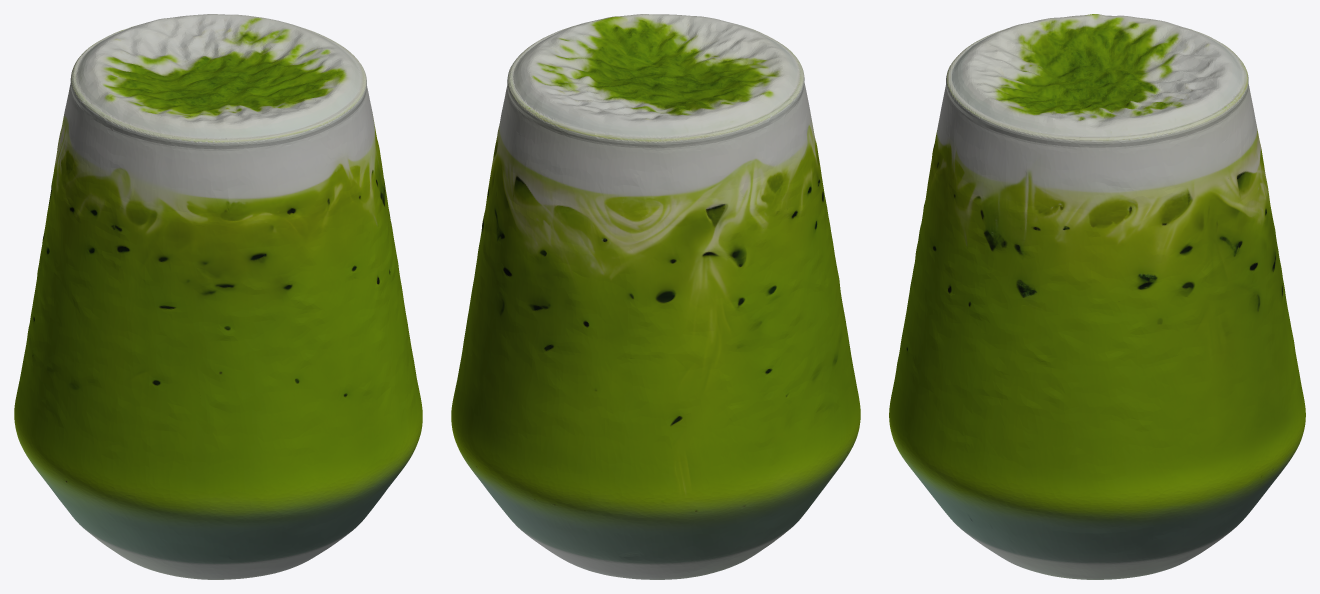
Rendered from matcha_layers.obj.
The picture shows the model from 3 angles, left to right: view 1: azimuth 30°, elevation 25°; view 2: azimuth 150°, elevation 25°; view 3: azimuth 270°, elevation 25°; orthographic projection.
Visible parts, largest first — view 1: matcha_isi, matcha_topping, matcha_base; view 2: matcha_isi, matcha_topping, matcha_base; view 3: matcha_isi, matcha_topping, matcha_base.
Part boxes in pixels (x1=…): matcha_isi: x1=16, y1=200, x2=420, y2=488; matcha_topping: x1=48, y1=14, x2=389, y2=282; matcha_base: x1=14, y1=392, x2=422, y2=579; matcha_isi: x1=453, y1=200, x2=858, y2=489; matcha_topping: x1=486, y1=14, x2=826, y2=285; matcha_base: x1=451, y1=389, x2=860, y2=579; matcha_isi: x1=891, y1=200, x2=1303, y2=487; matcha_topping: x1=925, y1=14, x2=1270, y2=278; matcha_base: x1=889, y1=392, x2=1305, y2=579.
Bounding box in the file's own units: 0.8463 × 1.08 × 0.8652.
Materials: 1 (1 with a texture image).
